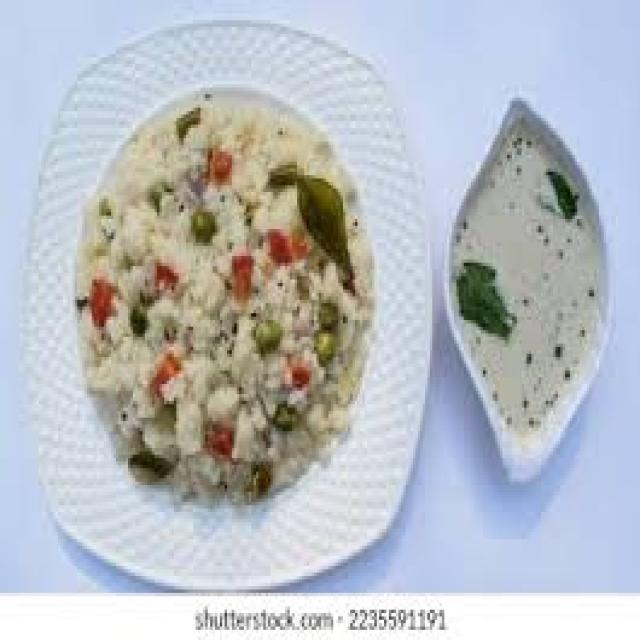UPMA: (72, 104, 370, 499), (449, 104, 599, 478)
